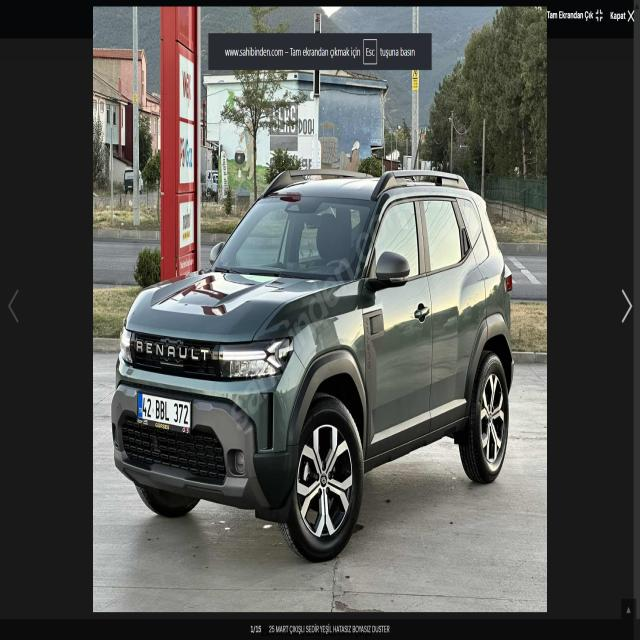renault: (126, 325, 220, 376)
